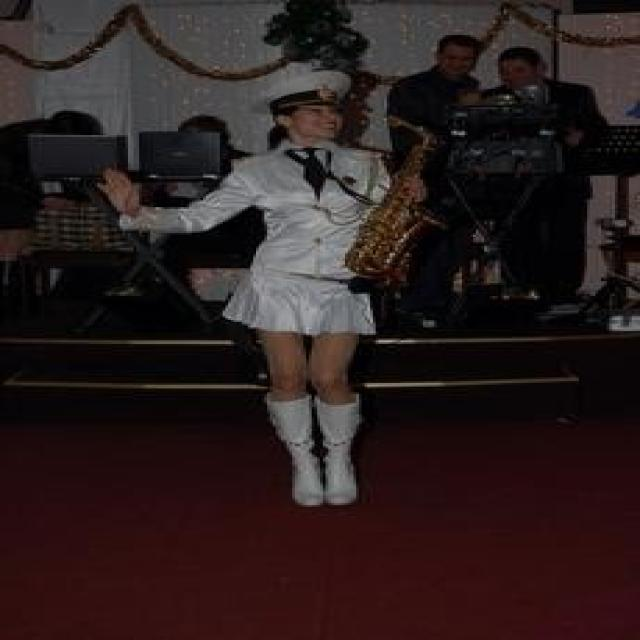saxophone: (333, 113, 445, 282)
